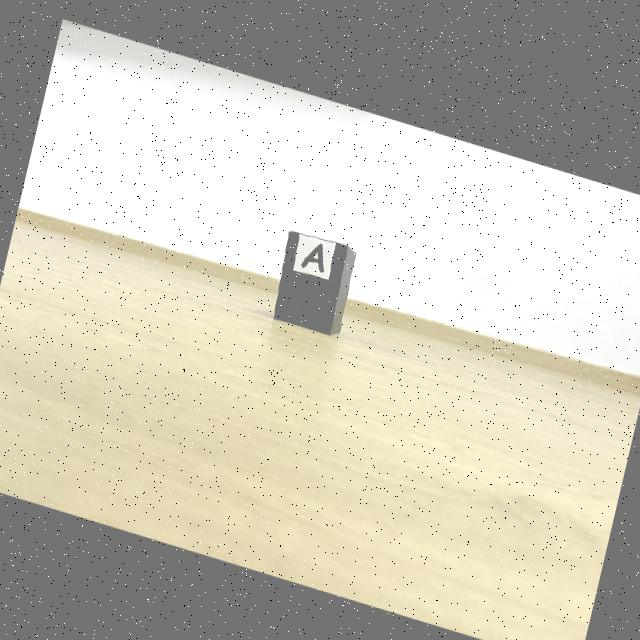A: (301, 239, 323, 268)
